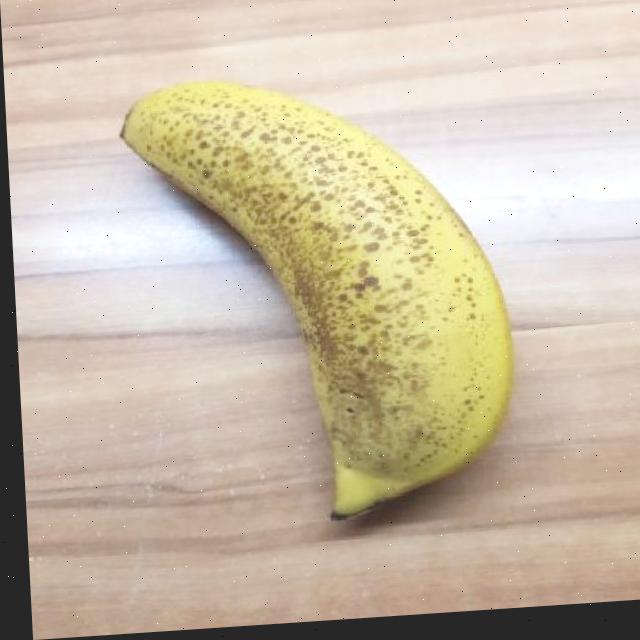banana: (115, 57, 532, 542)
